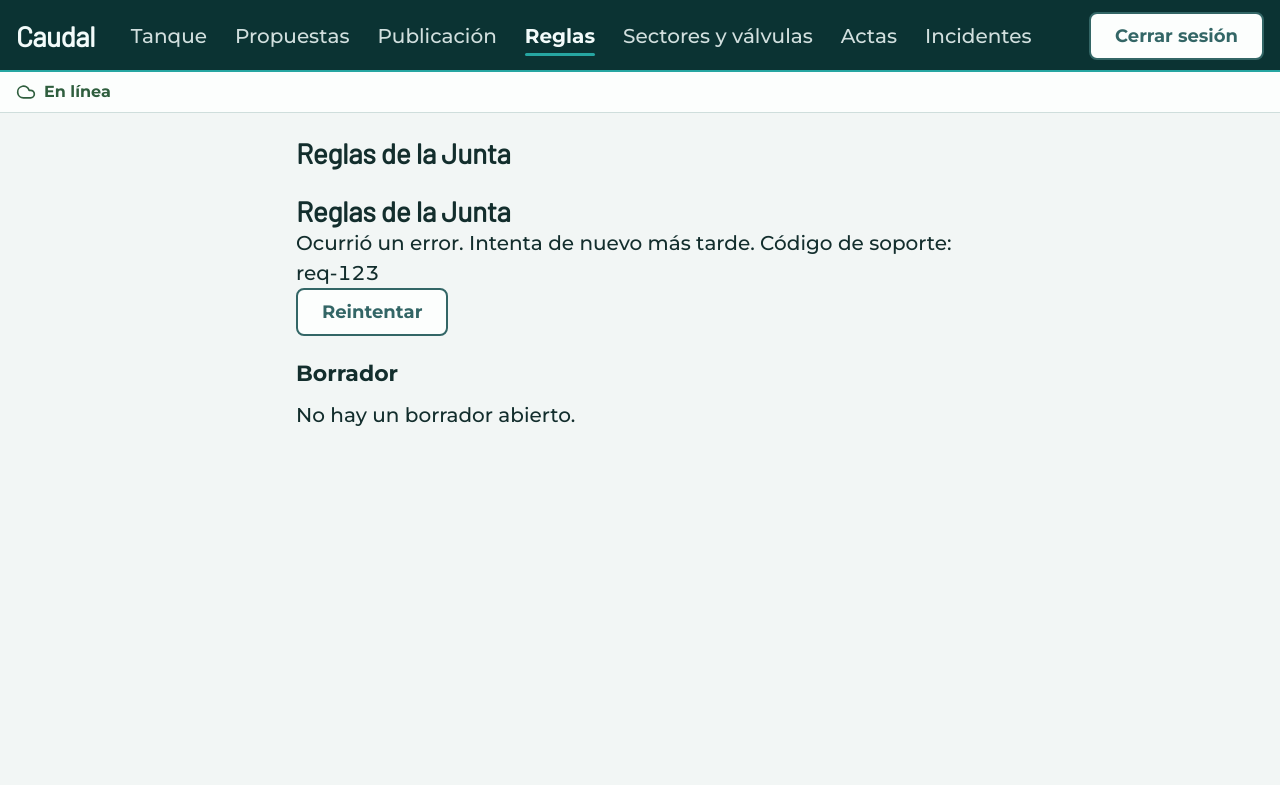
it: RulesPage: rules in force › shows the support code of a server failure and can retry
Check: the message shows "req-123", box [296,231,952,285]
Click the button "Reintentar".
click(372, 312)  # box [296,288,448,336]
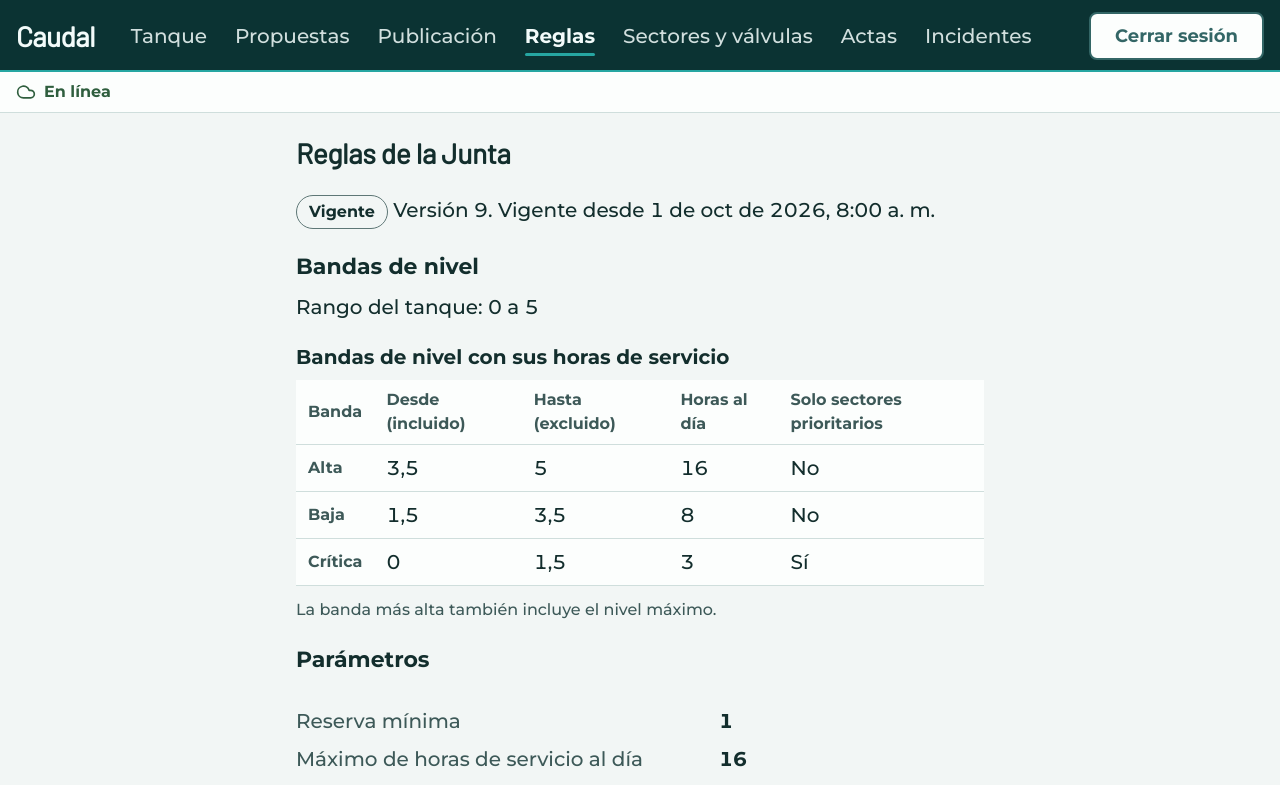
Check: the text "Versión 9" is shown, box [393,198,488,222]
